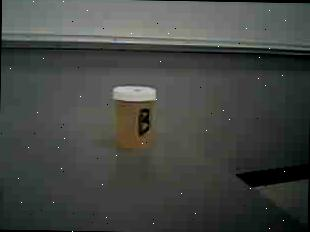Bottle B: (106, 80, 168, 154)
